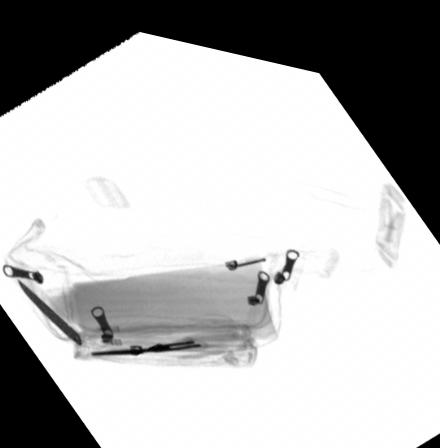Knife: (16, 280, 82, 342)
Scissors: (92, 311, 251, 353)
